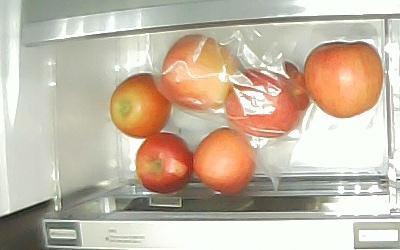apple: (305, 41, 383, 119), (191, 128, 255, 195), (111, 72, 172, 138), (136, 132, 192, 194)
apple_vinyl: (225, 60, 309, 138), (162, 34, 238, 113)
